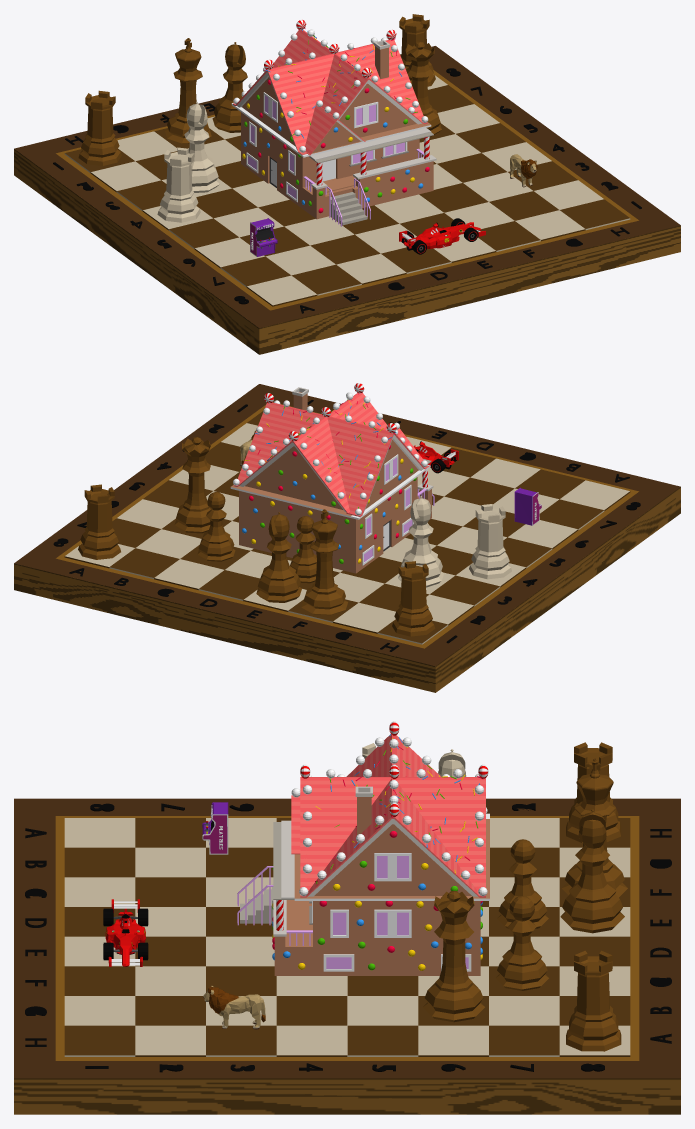
3 renders of one model, top to bottom at view 1: azimuth 30°, elevation 25°; view 2: azimuth 150°, elevation 25°; view 3: azimuth 270°, elevation 25°, orthographic. The views are drawn at different scales.
Parts seen in each view (by area): view 1: Cube.002, Cube.1203, VEHICLES_FORMULA_1, OBJRANDOM_ARCADE, ANIMAL_LEON; view 2: Cube.002, Cube.1203, OBJRANDOM_ARCADE, VEHICLES_FORMULA_1; view 3: Cube.002, Cube.1203, VEHICLES_FORMULA_1, ANIMAL_LEON, OBJRANDOM_ARCADE.
Boxes of the visible parts, x1,y1,x2,y2 form: Cube.002: (14, 14, 680, 354); Cube.1203: (231, 19, 436, 226); VEHICLES_FORMULA_1: (399, 218, 485, 254); OBJRANDOM_ARCADE: (250, 218, 277, 256); ANIMAL_LEON: (510, 154, 537, 187); Cube.002: (14, 384, 680, 692); Cube.1203: (230, 383, 434, 573); OBJRANDOM_ARCADE: (514, 487, 541, 525); VEHICLES_FORMULA_1: (414, 441, 458, 473); Cube.002: (14, 742, 680, 1114); Cube.1203: (237, 721, 489, 975); VEHICLES_FORMULA_1: (103, 899, 148, 966); ANIMAL_LEON: (203, 986, 265, 1029); OBJRANDOM_ARCADE: (202, 802, 228, 854).
Size of the model in its own units: 3981 by 1489 by 4012.
Materials: 49 (3 with a texture image).
